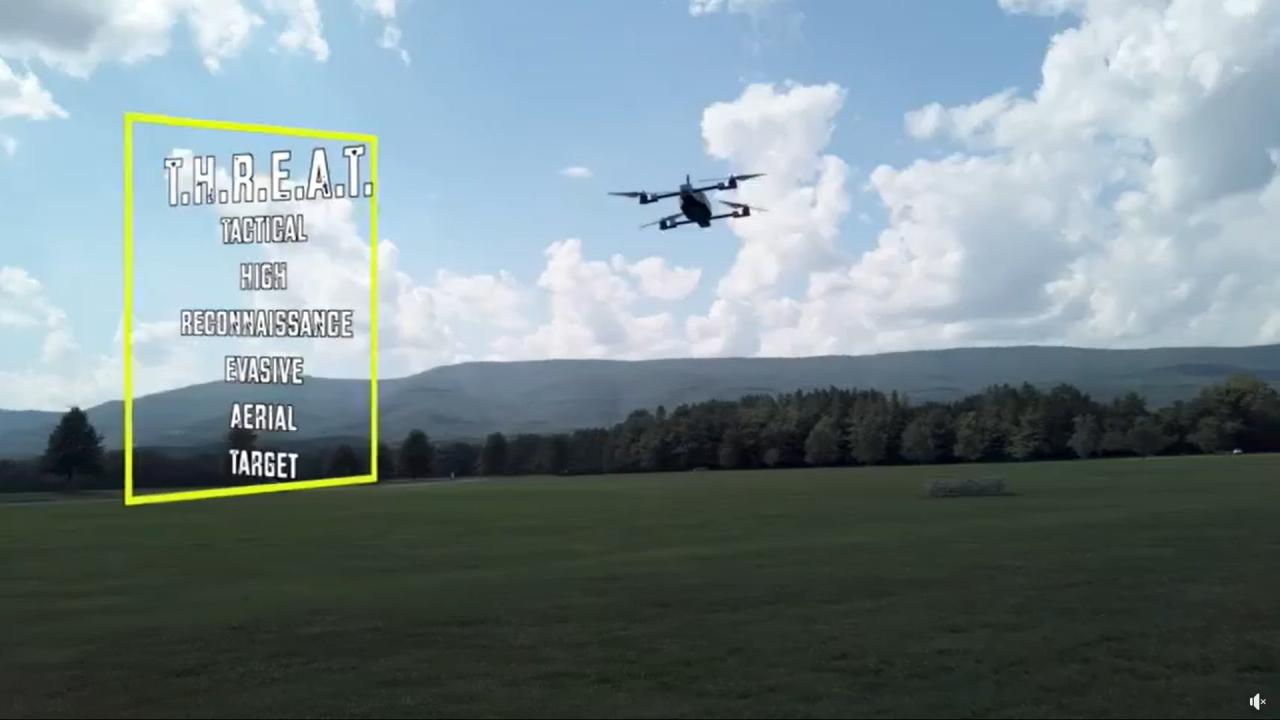Drone: (596, 156, 787, 244)
